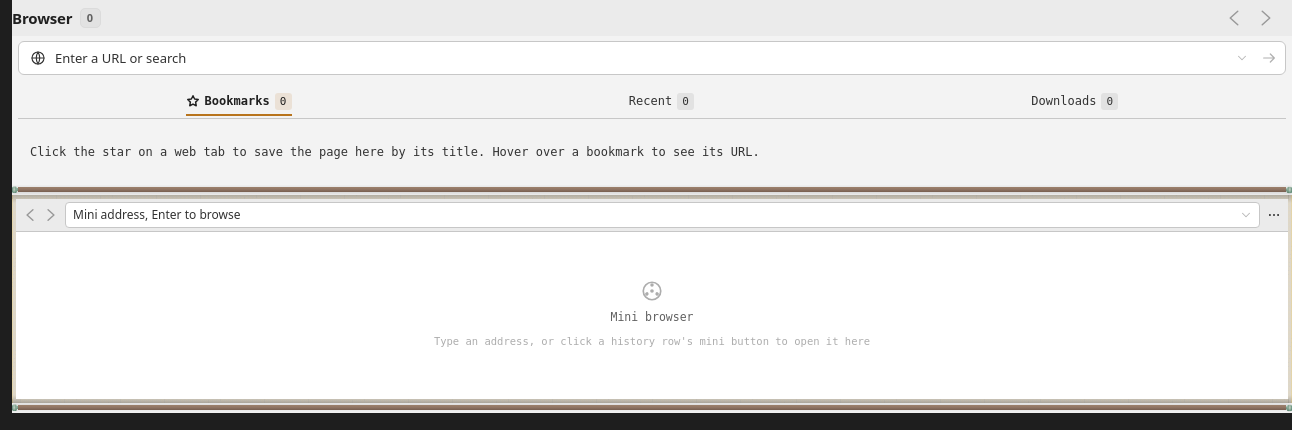
Test: 网址收藏 › 主地址栏不再提供收藏入口
The image size is (1292, 430).
In the dropdown with placeholder "Enter a URL or search": [643, 58] box [55,42,1231,74], type "docs.example.com/guide"
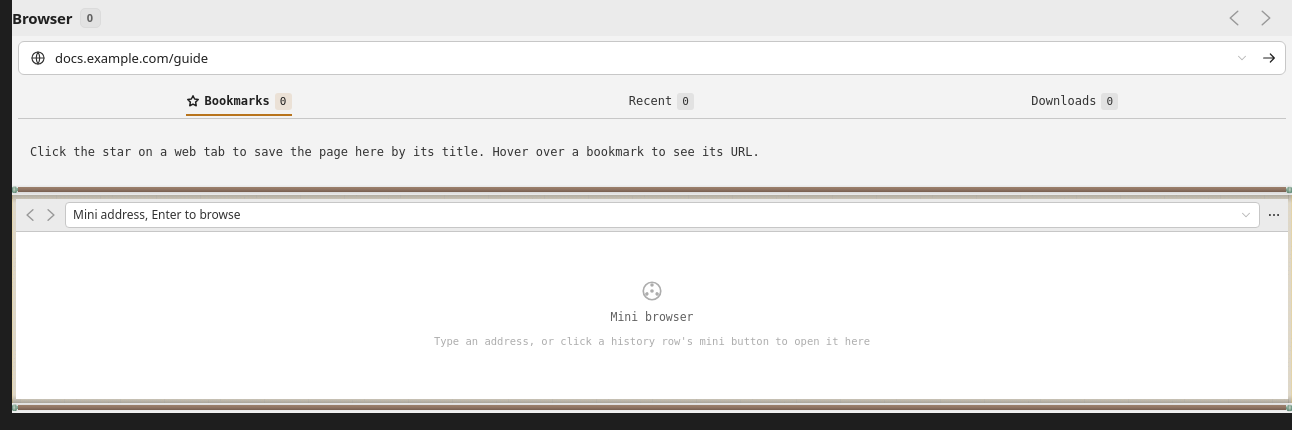
Expected: the button "Bookmark this URL" is not shown
Click the button titled "Mini pane · More actions": [1274, 214] box [1264,202,1284,226]
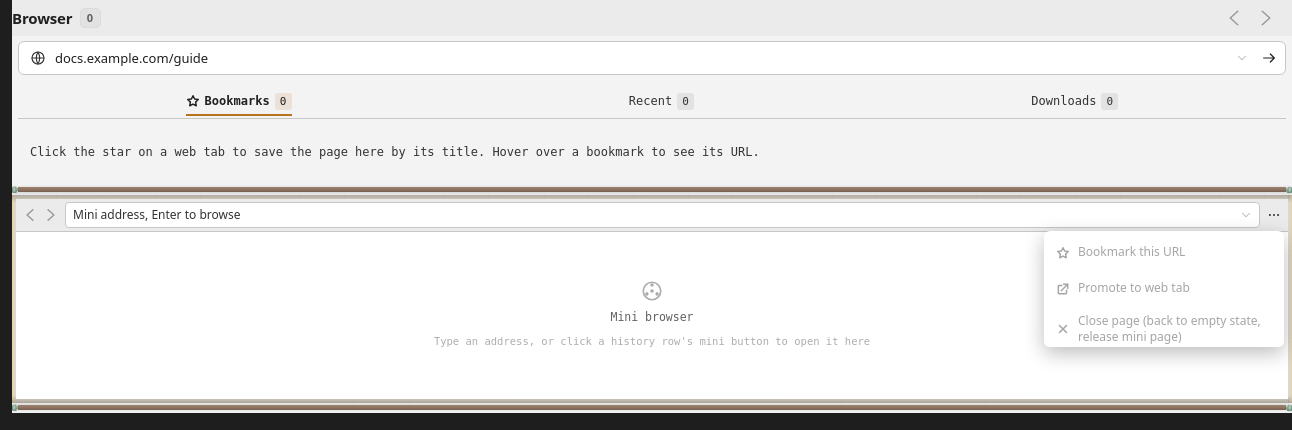
Now the menu item "Bookmark this URL" is disabled, box [1048,234,1280,270]
